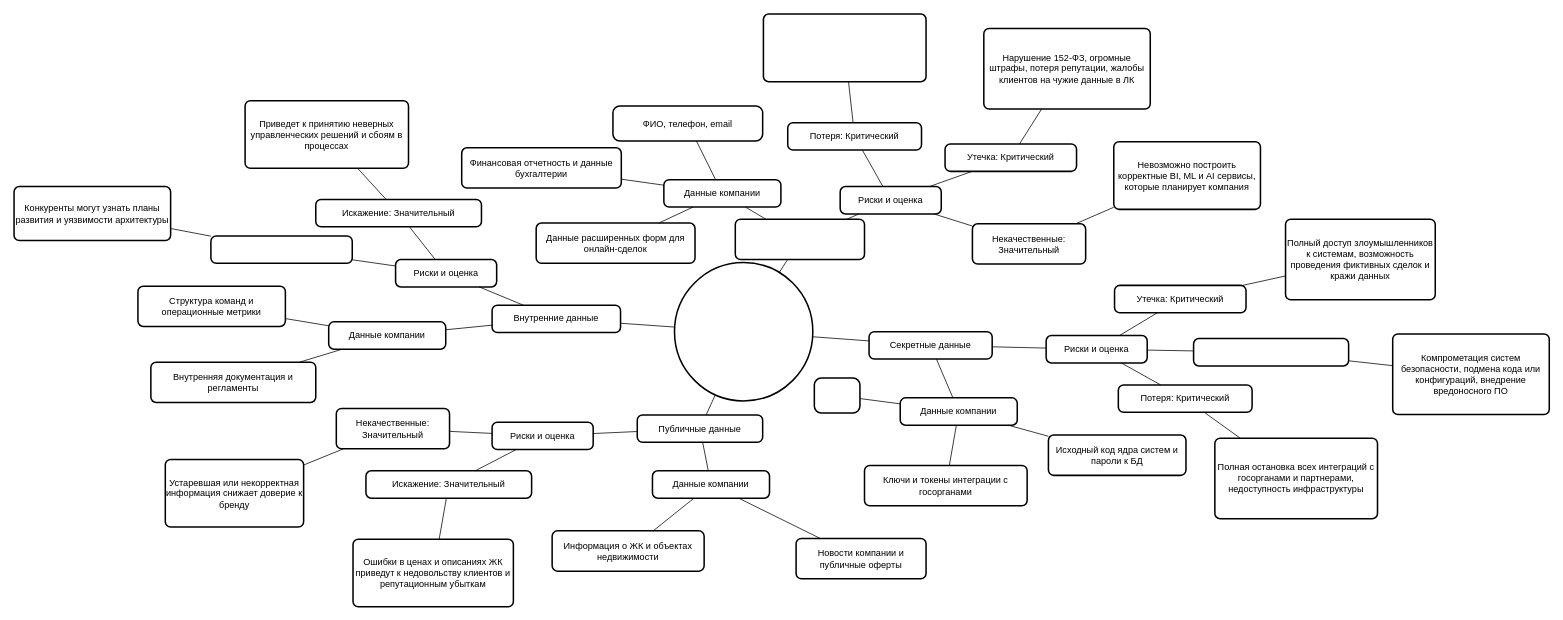
This 1563x620 diagram has some shape labels left out. The centre of each missing label's shape, as x and y in pixels:
Безопасность данных: pixel 743 331
Искажение: Критический: pixel 1270 351
Конфиденциальные данные: pixel 799 239
Паралич бизнес-процессов, невозможность провести сделки или оплатить ЖКУ: pixel 844 47
УК: pixel 836 395
Утечка: Значительный: pixel 281 249
